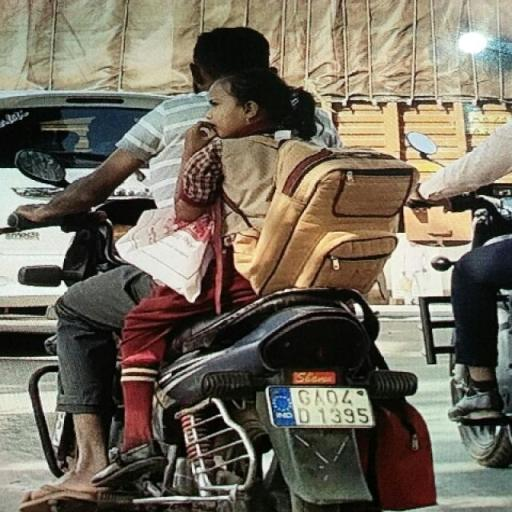bike: (4, 18, 450, 512)
numberplate: (270, 384, 377, 431)
withouthelmet: (206, 74, 292, 134), (196, 30, 268, 79)
